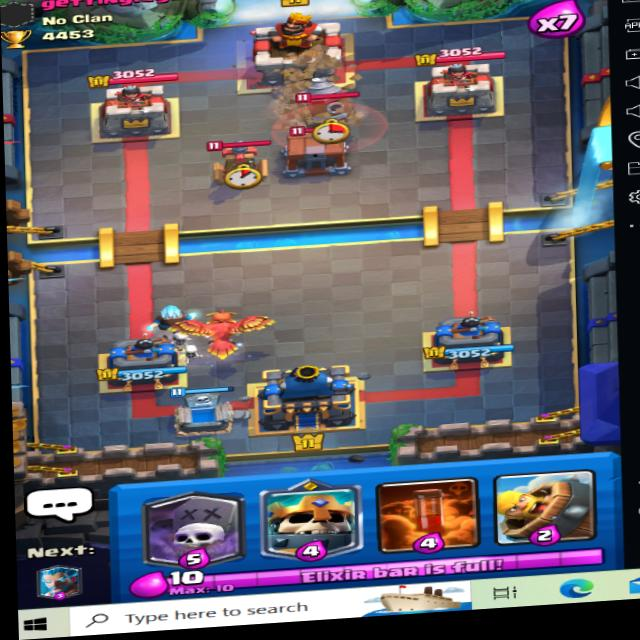goblin-cage: (274, 122, 353, 179)
goblin-drill: (294, 71, 364, 129)
tesla: (198, 131, 272, 188)
